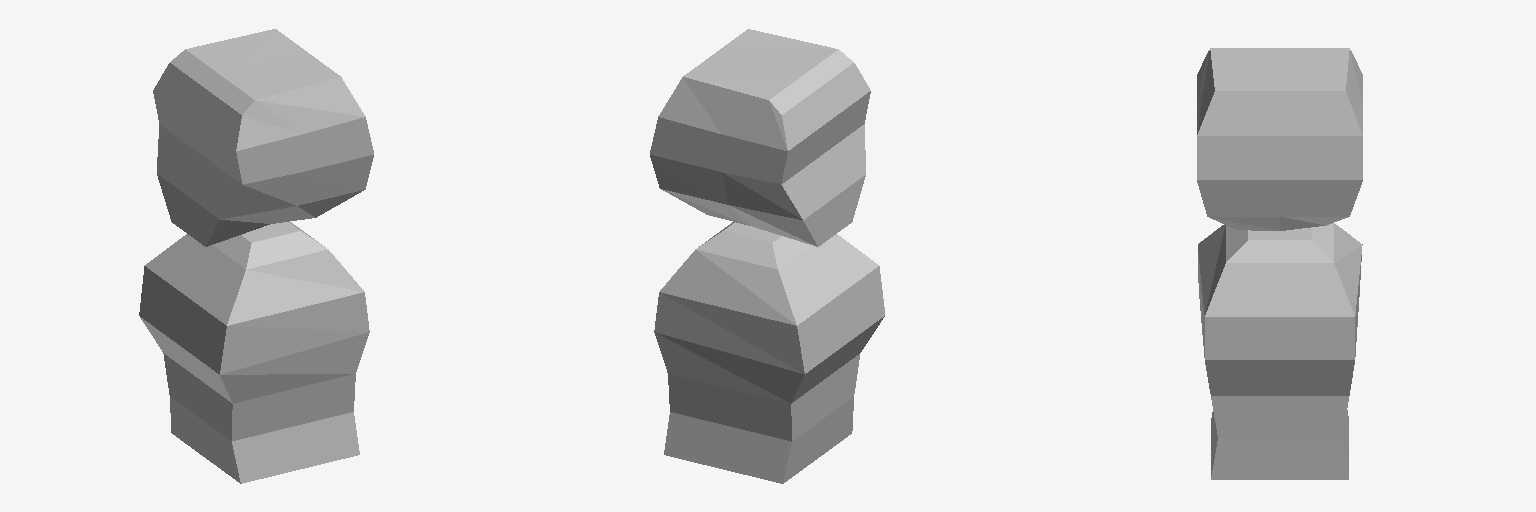
File: Human01.obj
3 views of the same model, side by side, from view 1: azimuth 30°, elevation 25°; view 2: azimuth 150°, elevation 25°; view 3: azimuth 270°, elevation 25° (orthographic).
Visible parts, largest first — view 1: Body_Cube, Cube_Cube.001; view 2: Body_Cube, Cube_Cube.001; view 3: Body_Cube, Cube_Cube.001.
Part boxes in pixels (bbox=[...]): Body_Cube: bbox=[139, 222, 369, 483]; Cube_Cube.001: bbox=[153, 29, 373, 246]; Body_Cube: bbox=[654, 222, 884, 483]; Cube_Cube.001: bbox=[650, 29, 870, 246]; Body_Cube: bbox=[1198, 223, 1362, 479]; Cube_Cube.001: bbox=[1197, 48, 1362, 230].
Size of the model in its own units: 1.95 by 4.63 by 1.83.